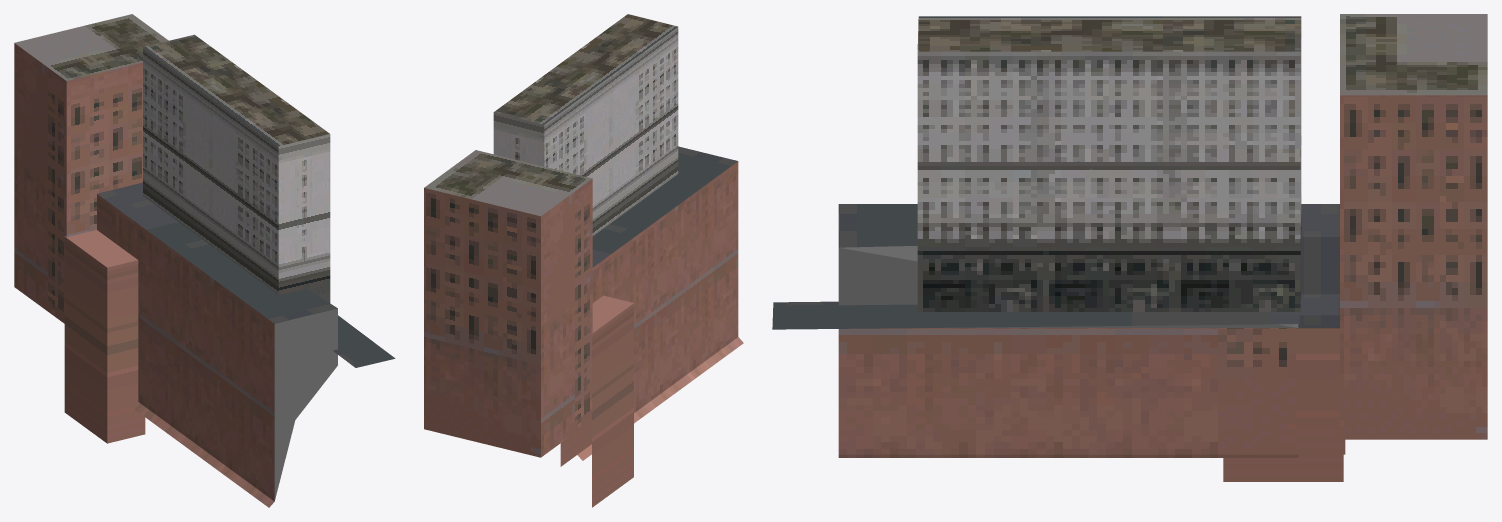
The model's file is loda10.obj.
3 renders of one model, left to right at view 1: azimuth 30°, elevation 25°; view 2: azimuth 150°, elevation 25°; view 3: azimuth 270°, elevation 25°, orthographic. The views are drawn at different scales.
Visible parts, largest first — view 1: LODA10; view 2: LODA10; view 3: LODA10.
Boxes of the visible parts, <box> form: LODA10: <box>14,14,395,507</box>; LODA10: <box>424,14,743,507</box>; LODA10: <box>772,14,1487,481</box>.
Bounding box in the file's own units: 35.32 × 94.77 × 121.
8 materials, 6 textured.
